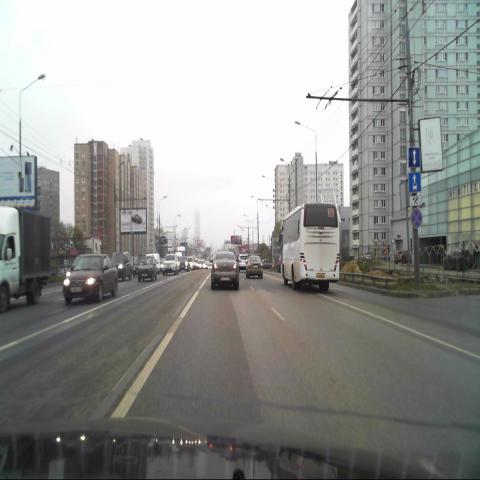5_14: (408, 171, 421, 193)
5_8: (409, 147, 420, 168)
